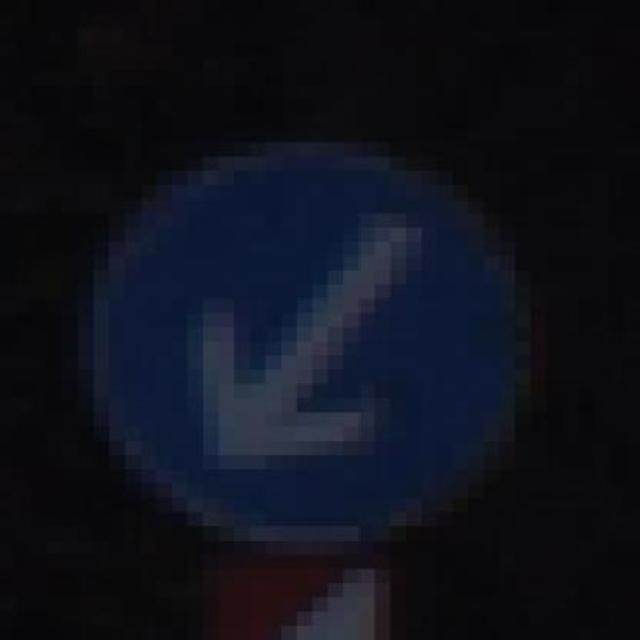Keep-Left: (62, 128, 562, 555)
